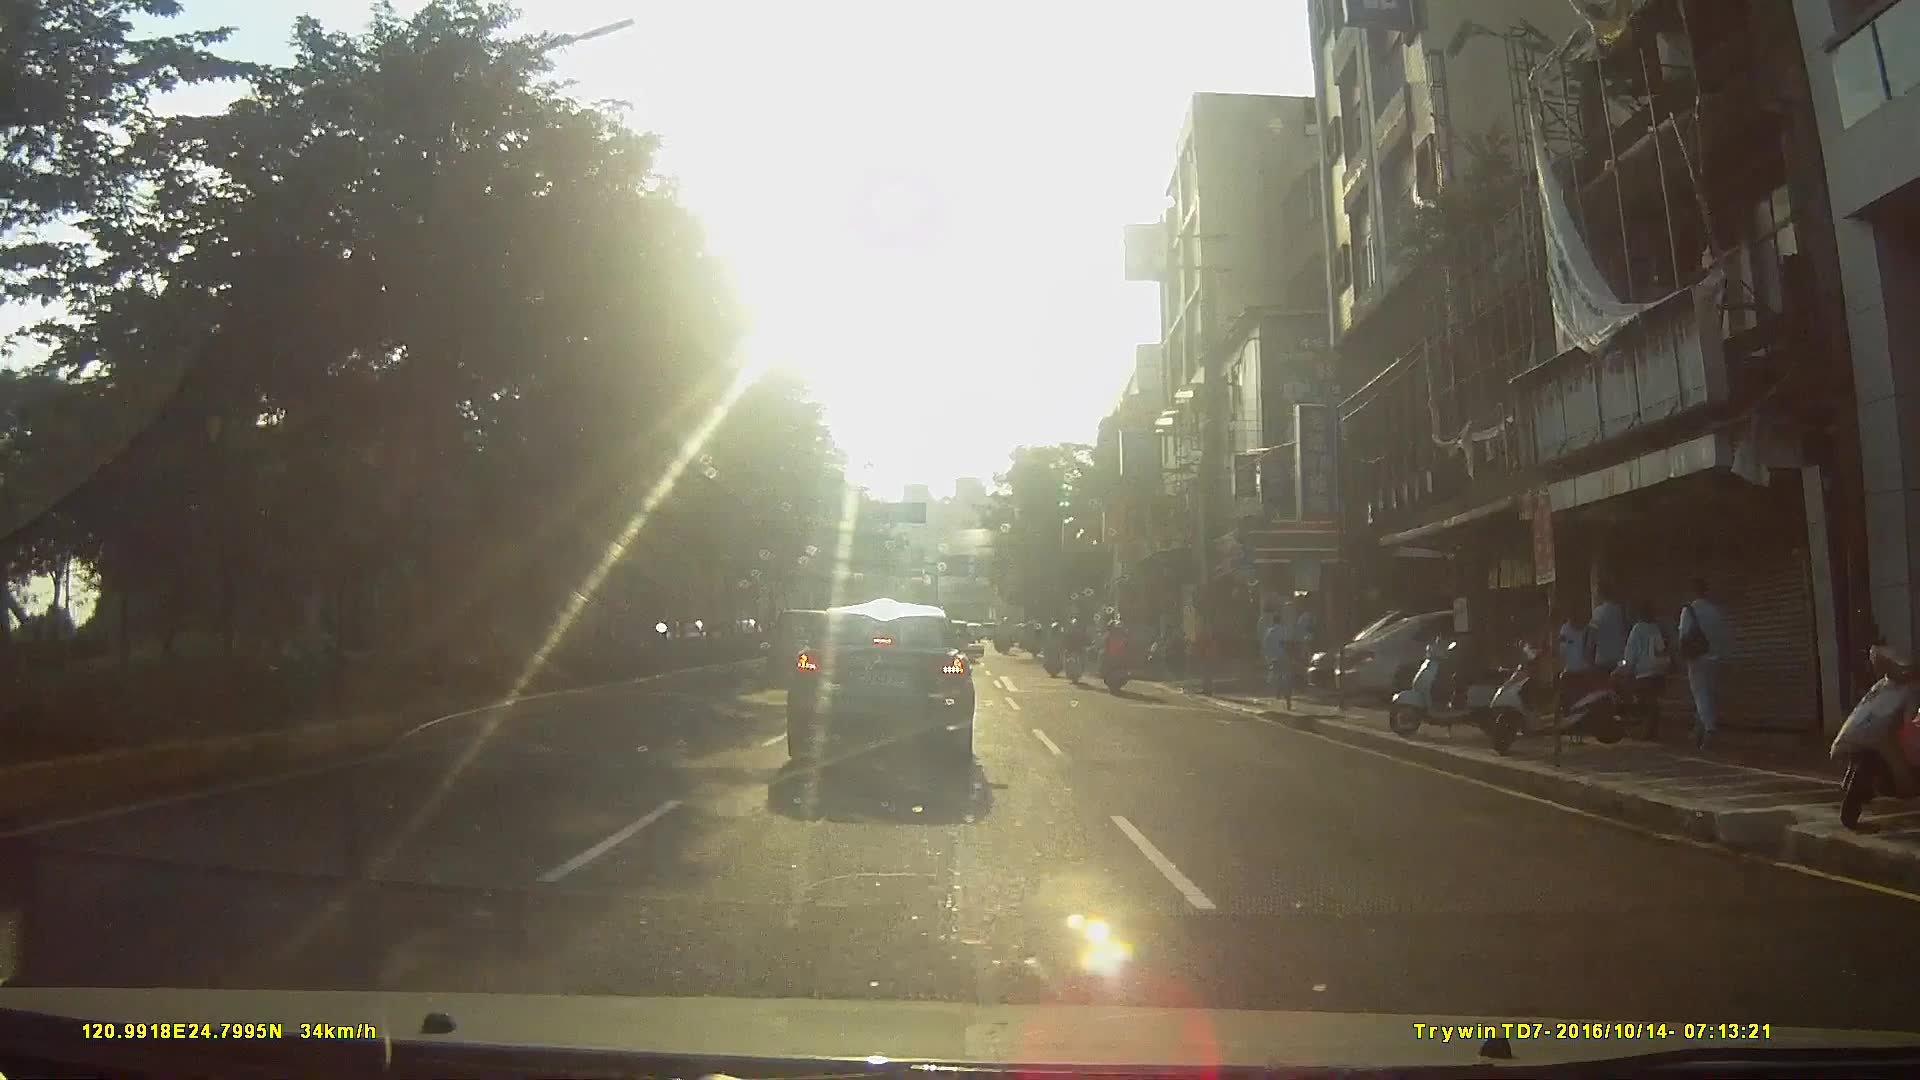pedestrian: (1673, 574, 1724, 741), (1621, 603, 1674, 729), (1586, 576, 1633, 714), (1260, 606, 1294, 703)
rider: (1101, 615, 1138, 695), (1062, 616, 1090, 688), (1041, 620, 1068, 679)
vehicle: (774, 592, 995, 785), (1333, 602, 1620, 710)
